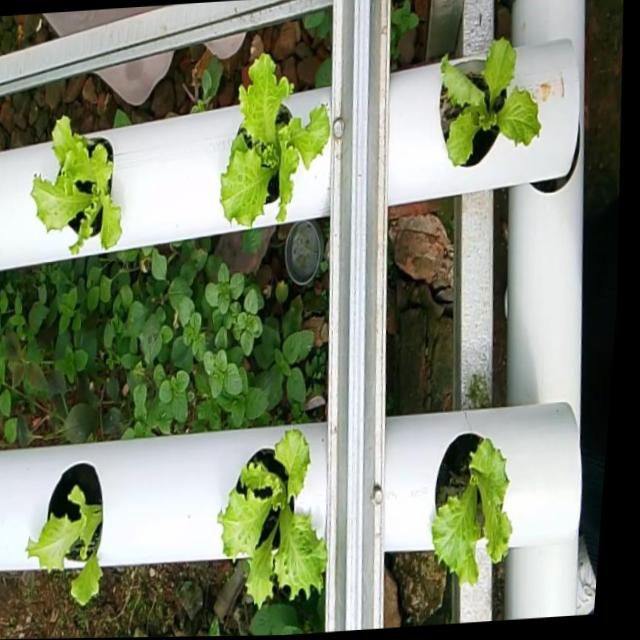Baby: (220, 430, 328, 610), (223, 58, 331, 230), (440, 43, 542, 173), (36, 117, 125, 255), (432, 436, 511, 587), (30, 460, 106, 600)
